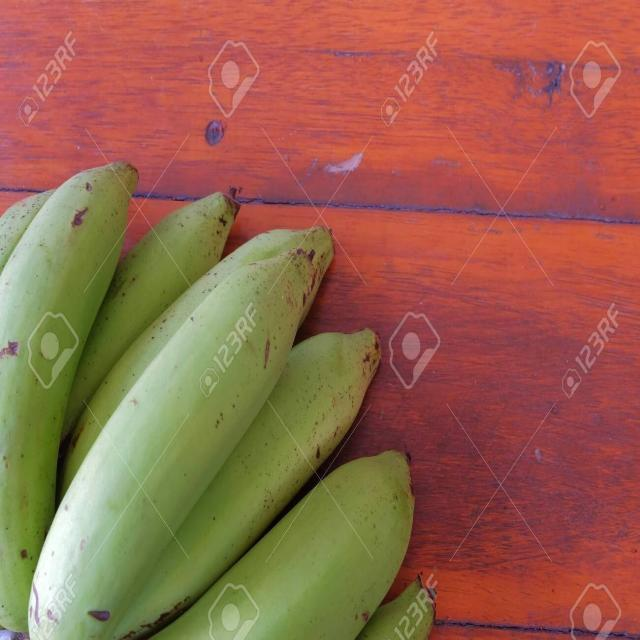Banana: (0, 149, 446, 640)
